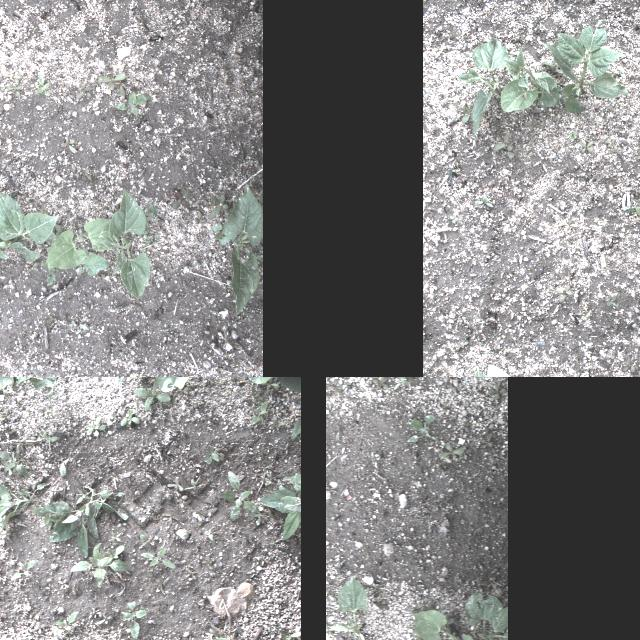crop: (542, 18, 628, 98), (100, 188, 150, 300), (222, 180, 262, 314), (457, 36, 509, 138), (0, 181, 57, 266), (45, 218, 119, 276), (499, 45, 558, 111), (326, 575, 373, 640), (410, 608, 490, 640), (464, 592, 507, 640), (422, 362, 515, 377)
weed: (34, 484, 128, 554), (256, 469, 300, 543), (66, 540, 130, 584), (0, 377, 62, 421), (0, 478, 48, 533), (221, 468, 265, 522), (210, 377, 300, 395), (120, 600, 148, 640), (134, 380, 172, 408), (137, 546, 177, 570), (407, 414, 439, 444), (248, 392, 276, 426), (52, 608, 82, 638), (554, 82, 582, 112), (116, 90, 150, 114), (0, 448, 31, 474), (37, 424, 63, 452), (7, 558, 38, 580), (201, 195, 229, 219), (85, 416, 109, 444), (118, 406, 144, 430), (263, 408, 283, 436), (154, 377, 194, 391), (96, 72, 126, 90), (210, 222, 232, 246), (540, 54, 564, 76), (152, 574, 172, 598), (87, 608, 113, 624), (438, 443, 464, 459), (184, 474, 204, 494), (495, 135, 513, 157), (203, 442, 221, 463), (554, 284, 574, 302), (137, 528, 157, 546), (34, 74, 50, 96), (200, 552, 217, 572), (621, 354, 639, 372), (188, 202, 208, 218), (287, 415, 299, 441), (260, 468, 274, 490), (6, 432, 28, 446), (32, 617, 46, 639), (173, 190, 190, 208), (620, 198, 640, 213), (56, 574, 68, 598), (107, 528, 127, 542), (280, 624, 300, 638), (240, 306, 256, 322), (183, 564, 199, 580), (164, 478, 180, 494), (60, 139, 78, 153), (474, 194, 494, 206), (160, 510, 180, 522), (461, 104, 473, 122), (4, 82, 20, 95), (394, 377, 410, 390), (202, 527, 216, 541), (578, 140, 594, 152), (116, 68, 122, 98), (76, 84, 90, 96), (144, 234, 158, 246), (604, 295, 618, 307), (524, 121, 540, 131), (561, 218, 577, 228), (372, 377, 388, 387), (146, 203, 156, 217), (70, 165, 80, 177), (455, 340, 467, 350), (604, 138, 616, 148), (113, 377, 133, 383), (2, 74, 20, 80), (568, 129, 576, 141), (0, 388, 10, 395), (449, 214, 457, 222), (580, 314, 590, 318), (618, 70, 622, 76), (451, 168, 457, 172)
